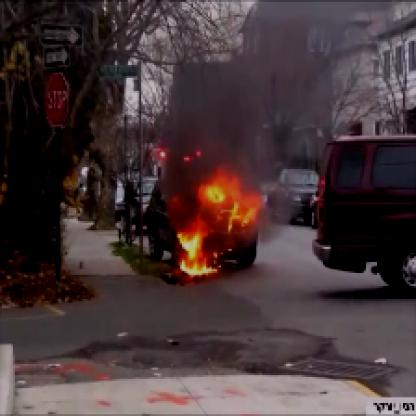Fire: (160, 165, 260, 273)
